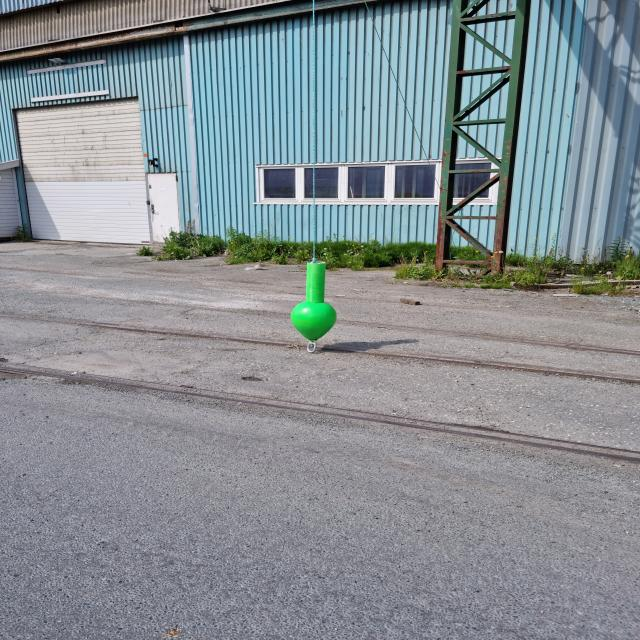green: (291, 263, 337, 339)
